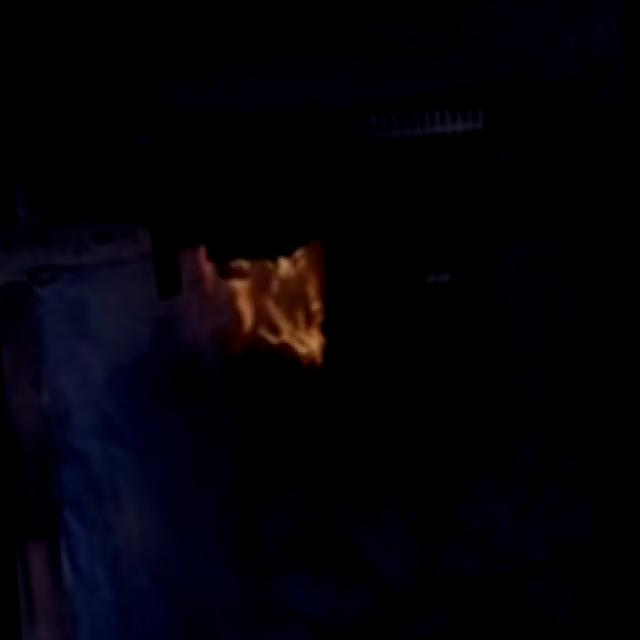fire: (190, 224, 371, 403)
smoke: (23, 387, 640, 640)
